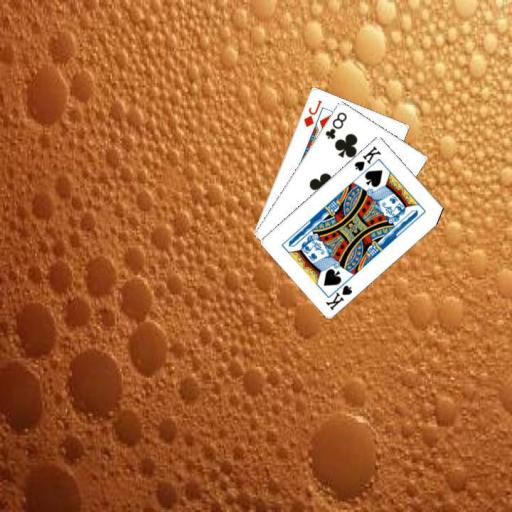8C: (322, 108, 349, 140)
JD: (300, 97, 324, 128)
KS: (322, 276, 354, 311), (351, 142, 383, 173)
